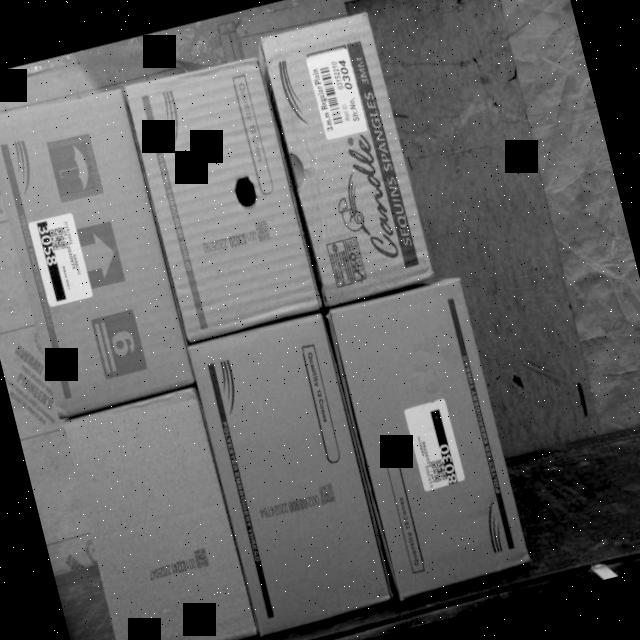box: (189, 314, 397, 638), (325, 276, 533, 598), (0, 82, 194, 417), (123, 53, 325, 342), (257, 8, 437, 306), (59, 386, 255, 640)
